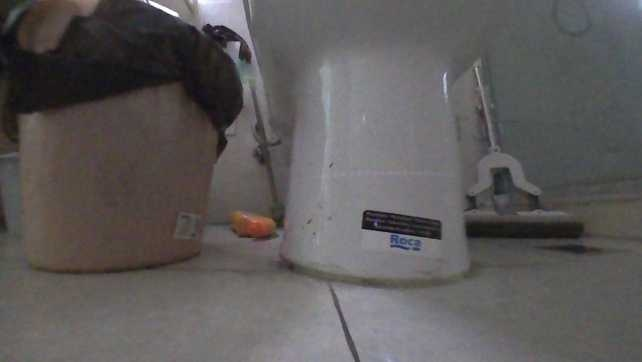toilet: (242, 0, 507, 281)
trash_can: (0, 0, 245, 272)
